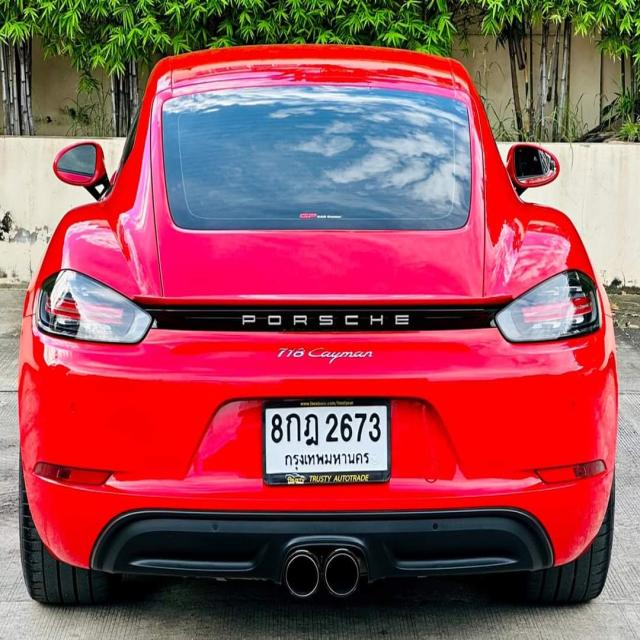license_plate: (260, 395, 392, 486)
